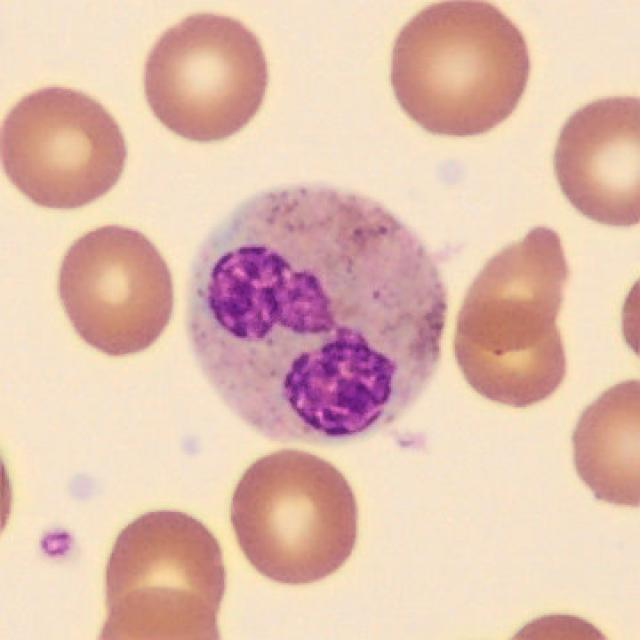Neutrofilo segmentado: (187, 187, 444, 446)
